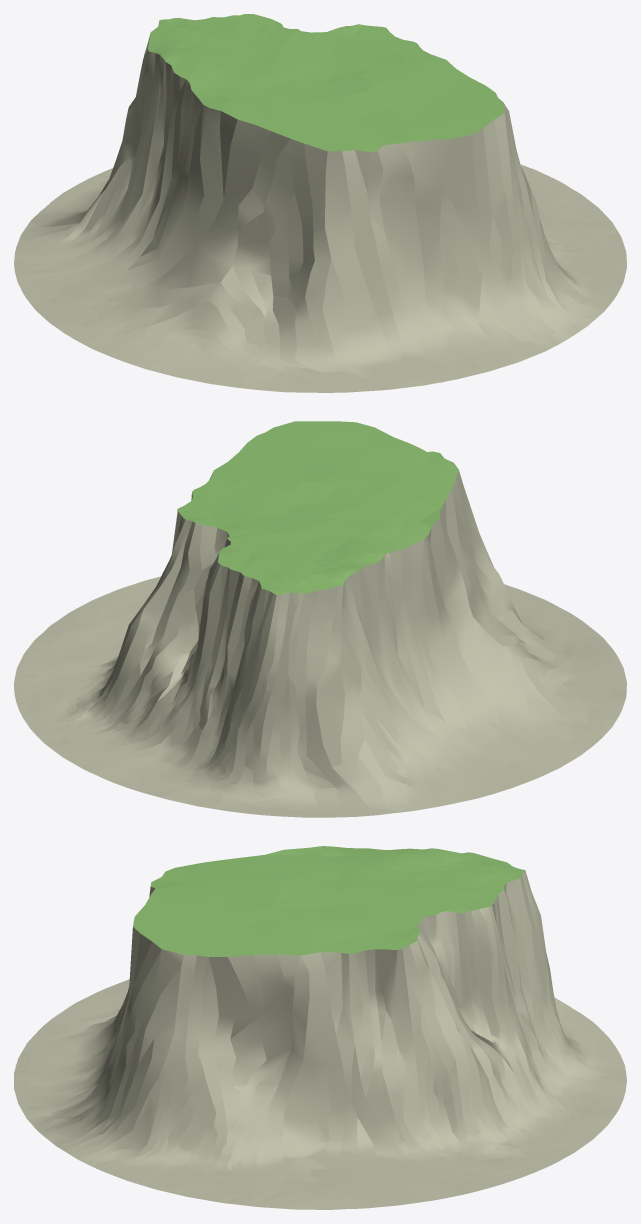
File: island_rocky_A_medium_circle.fbx
3 views of the same model, one above another, from view 1: azimuth 30°, elevation 25°; view 2: azimuth 150°, elevation 25°; view 3: azimuth 270°, elevation 25° (orthographic).
Parts seen in each view (by area): view 1: island_rocky_A_medium_circle; view 2: island_rocky_A_medium_circle; view 3: island_rocky_A_medium_circle.
Boxes of the visible parts, bbox=[...] form: island_rocky_A_medium_circle: bbox=[14, 14, 626, 392]; island_rocky_A_medium_circle: bbox=[14, 421, 626, 817]; island_rocky_A_medium_circle: bbox=[14, 846, 626, 1209].
Size of the model in its own units: 4970 by 1659 by 4967.
